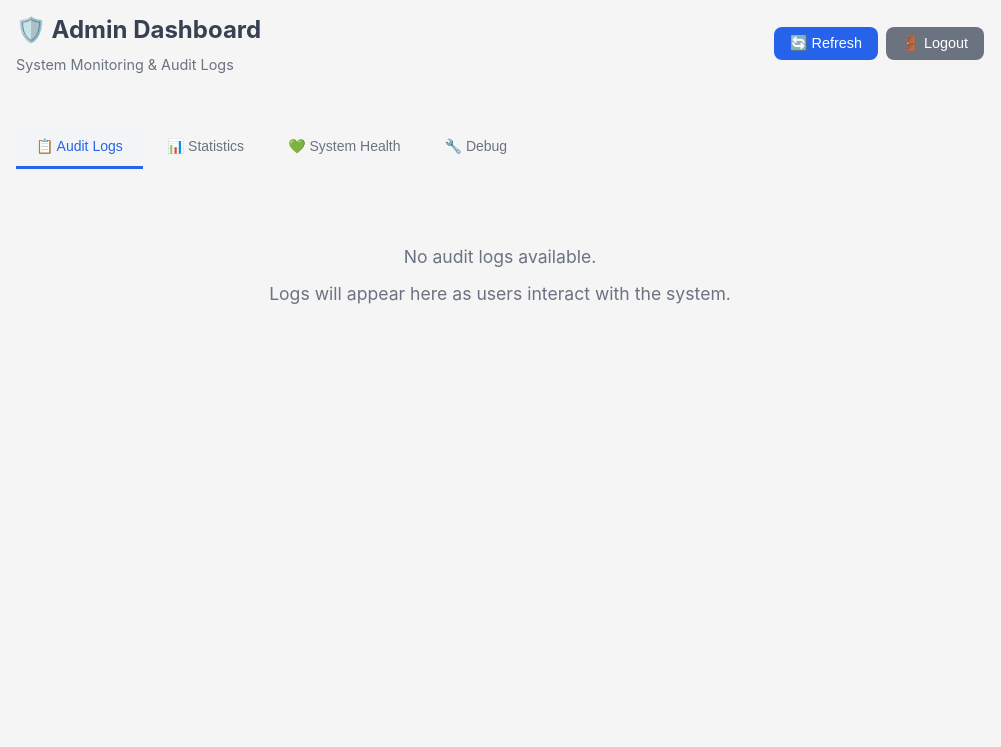
AdminPanel › Statistics Tab › displays statistics correctly
// Switch to Statistics tab
What coordinates should you click on to do the following:
click the button "📊 Statistics"
I would click on:
 (206, 148)
Its box is [147,126,264,169].
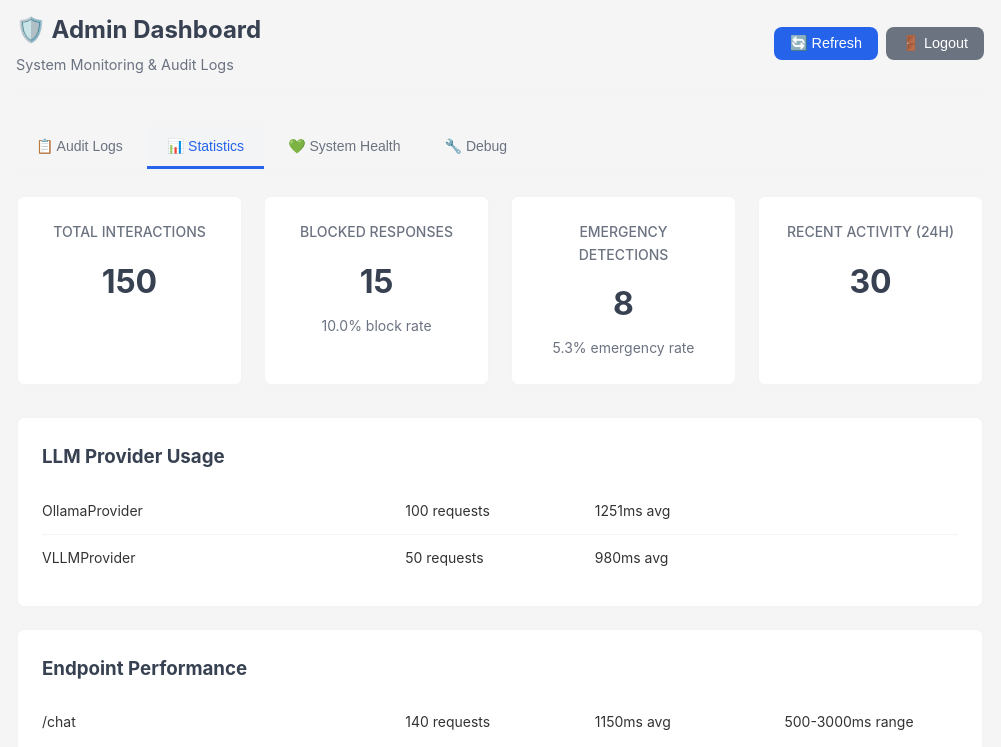
Result: the text "150" is shown at [102,262,157,301]
Result: the text "15" is shown at [360,262,393,301]
Result: the text "8" is shown at [613,284,634,323]
